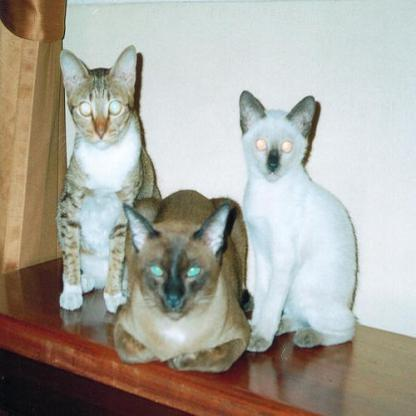cat: (240, 88, 358, 353), (56, 44, 163, 308), (111, 189, 254, 371)
